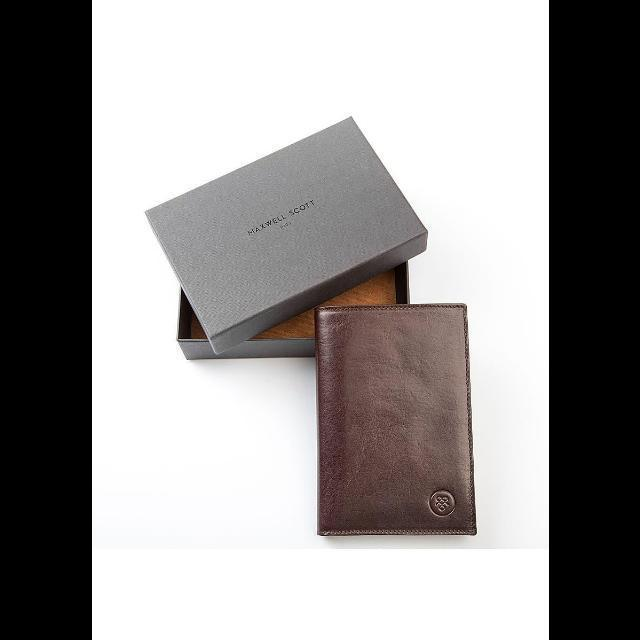wallet: (306, 300, 482, 540)
